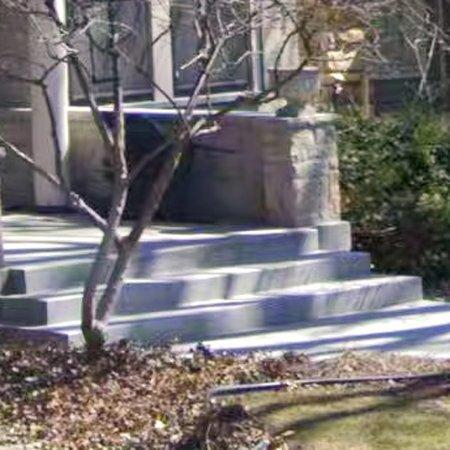stairs: (107, 222, 424, 342), (0, 217, 99, 342)
